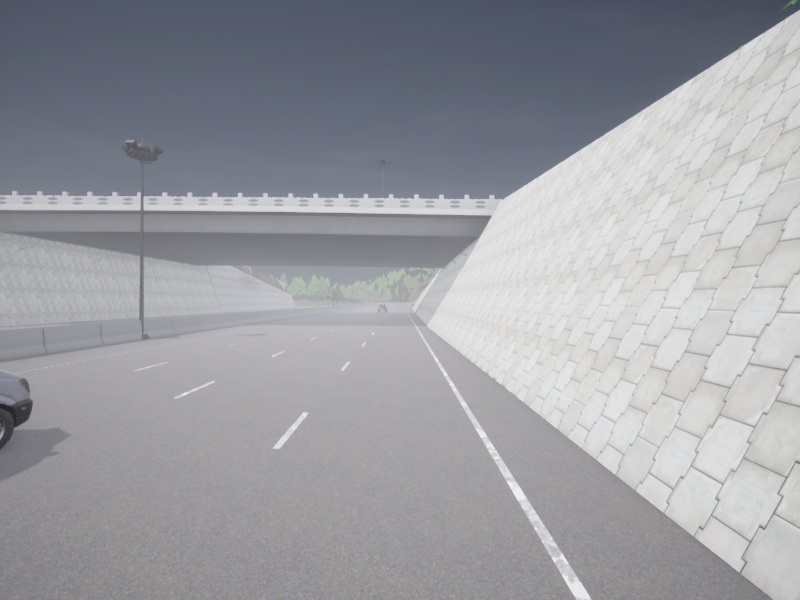vehicle: (0, 369, 32, 449), (378, 304, 386, 311)
